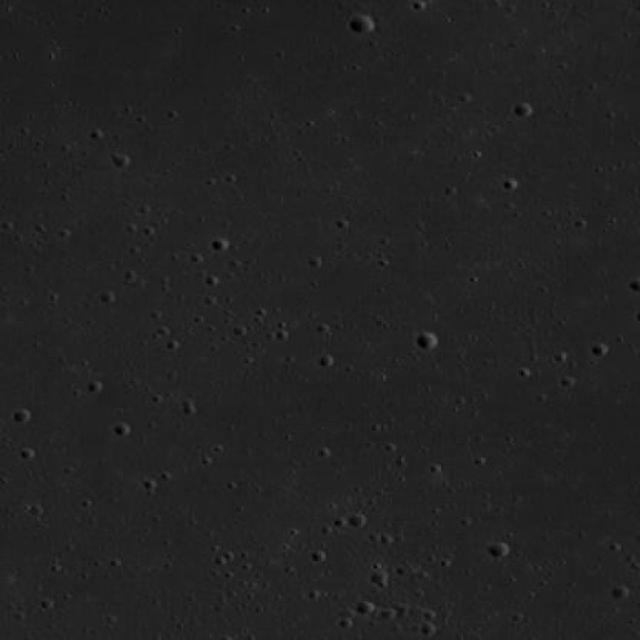crater: (348, 14, 372, 34), (416, 330, 438, 348), (489, 542, 509, 560)
